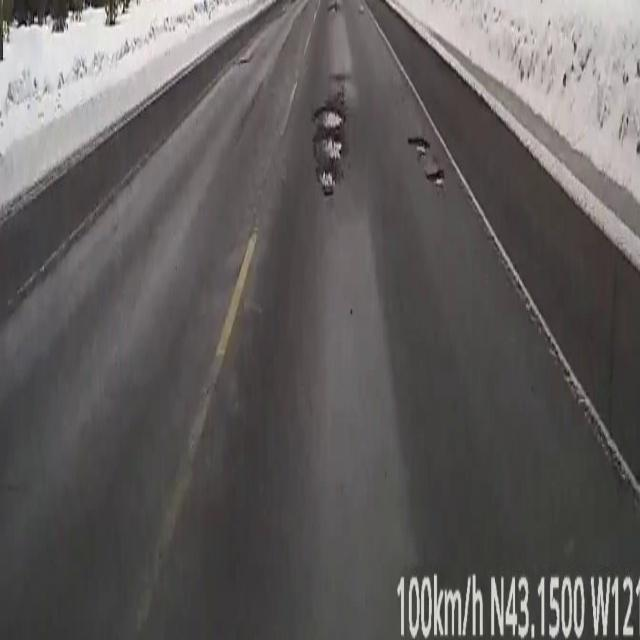pothole: (312, 101, 343, 188), (408, 136, 444, 194), (328, 5, 336, 12)
